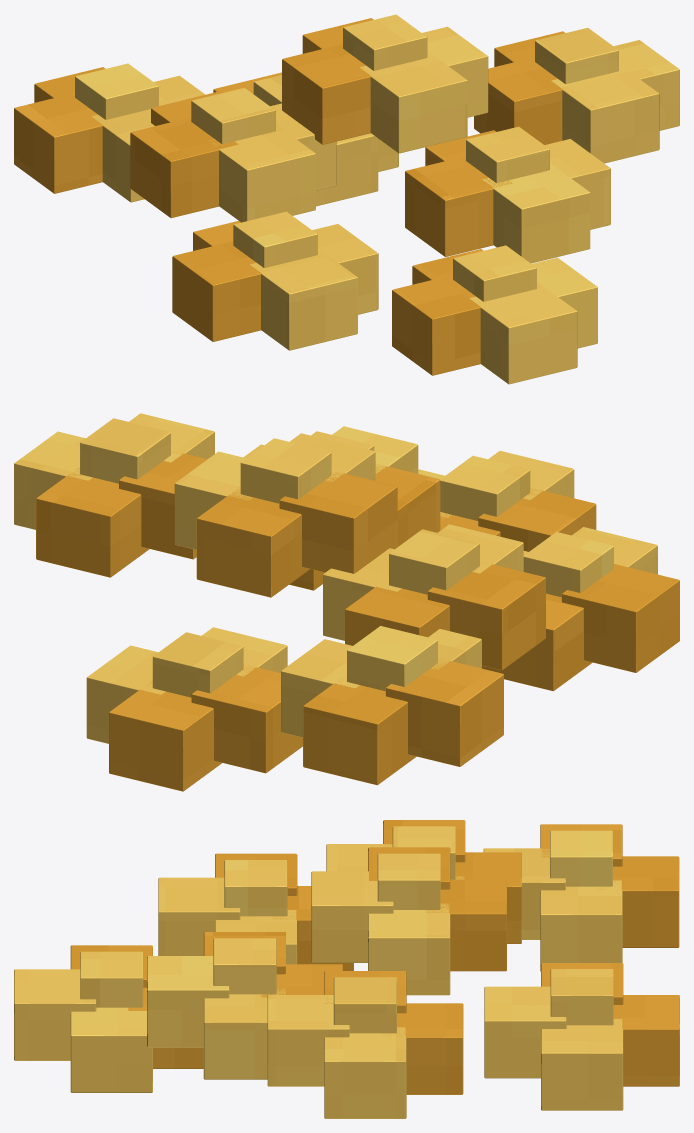
File: Flowers.glb
3 views of the same model, one above another, from view 1: azimuth 30°, elevation 25°; view 2: azimuth 150°, elevation 25°; view 3: azimuth 270°, elevation 25° (orthographic). The views are drawn at different scales.
Parts seen in each view (by area): view 1: Flowers; view 2: Flowers; view 3: Flowers.
Part boxes in pixels (left/top/right/bottom): Flowers: left=14, top=14, right=679, bottom=384; Flowers: left=14, top=413, right=679, bottom=791; Flowers: left=14, top=820, right=679, bottom=1118.
Bounding box in the file's own units: 0.454 × 0.1684 × 0.4952.
2 materials, 2 textured.
